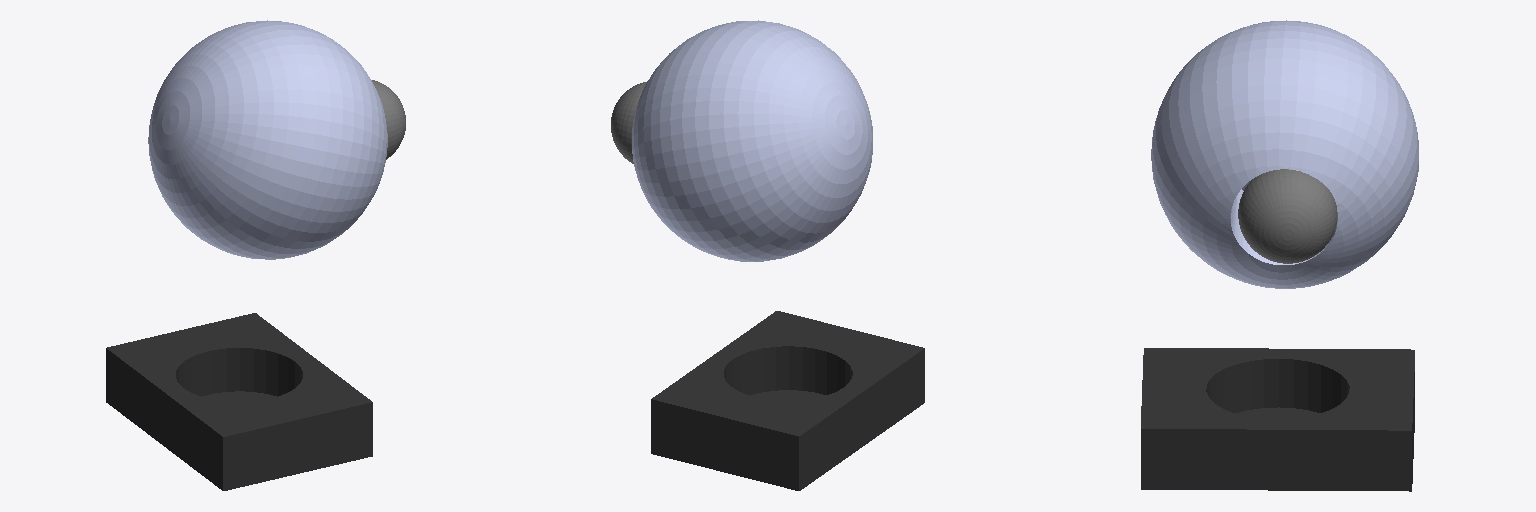
The robot description file, URDF, robot "ehn":
<?xml version="1.0" encoding="utf-8"?>

<!-- This URDF was automatically created by SolidWorks to URDF Exporter! Originally created by [author] ([email redacted]) 
     Commit Version: 1.6.0-1-g15f4949  Build Version: 1.6.7594.29634
     For more information, please see http://wiki.ros.org/sw_urdf_exporter -->
<robot
  name="ehn">
    <!--ros_control plugin-->
  <gazebo>
  <plugin name="gazebo_ros_control" filename="libgazebo_ros_control.so">
    <robotNamespace>ehn</robotNamespace>
  </plugin>
</gazebo>
<gazebo>
    <plugin name="gazebo_ros_force" filename="libgazebo_ros_force.so">
      <alwaysOn>true</alwaysOn>
      <update>100</update>
      <updateRate>1000.0</updateRate>
      <bodyName>dummy_link1</bodyName>
      <topicName>force/head_force</topicName>
    </plugin>
  </gazebo>
 <gazebo reference="head_joint">
    <provideFeedback>true</provideFeedback>
  </gazebo>
  <gazebo>
    <plugin name="ft_sensor_plugin" filename="libgazebo_ros_ft_sensor.so">
      <updateRate>1</updateRate>
      <topicName>ft_sensor/head_joint</topicName>
      <gaussianNoise>0.0</gaussianNoise>
      <jointName>head_joint</jointName>
      <frame>head_link</frame>
    </plugin>
  </gazebo>
 <gazebo reference="neck_joint1">
    <provideFeedback>true</provideFeedback>
  </gazebo>
  <gazebo>
    <plugin name="ft_sensor_plugin" filename="libgazebo_ros_ft_sensor.so">
      <updateRate>1</updateRate>
      <topicName>ft_sensor/neck_joint1</topicName>
      <gaussianNoise>0.0</gaussianNoise>
      <jointName>neck_joint1</jointName>
      <frame>neck_link</frame>
    </plugin>
  </gazebo>
   <gazebo reference="neck_joint2">
    <provideFeedback>true</provideFeedback>
  </gazebo>
  <gazebo>
    <plugin name="ft_sensor_plugin" filename="libgazebo_ros_ft_sensor.so">
      <updateRate>1</updateRate>
      <topicName>ft_sensor/neck_joint2</topicName>
      <gaussianNoise>0.0</gaussianNoise>
      <jointName>neck_joint2</jointName>
      <frame>neck_link</frame>
    </plugin>
  </gazebo>
   <gazebo reference="neck_joint3">
    <provideFeedback>true</provideFeedback>
  </gazebo>
  <gazebo>
    <plugin name="ft_sensor_plugin" filename="libgazebo_ros_ft_sensor.so">
      <updateRate>1</updateRate>
      <topicName>ft_sensor/neck_joint3</topicName>
      <gaussianNoise>0.0</gaussianNoise>
      <jointName>neck_joint3</jointName>
      <frame>neck_link</frame>
    </plugin>
  </gazebo>
  <plugin name="JointStatePublisher" filename="libJointStatePublisher.so">
    <joints>head_joint, neck_joint1, neck_joint2, neck_joint3</joints>
    <publish_selected_only>1</publish_selected_only>
</plugin>
<!-- * * * BASE LINK * * * -->
 <link name="world"/> 

  <link name="base_link">
    <inertial>
      <origin
        xyz="0 0 0"  rpy="0 0 0" />
      <mass value="5" />
      <inertia
        ixx="0.67109" ixy="0.5715" ixz="-0.036069" iyy="0.21011" iyz="-0.16464" izz="0.70362" />
    </inertial>
   <visual>
      <origin
        xyz="0 0 0" rpy="0 0 0" />
      <geometry>
        <mesh
          filename="package://ehn_description/meshes/torso_scaled_right_tf.STL" /> <!--scale="0.001 0.001 0.001"-->
      </geometry>
       <material
        name="">
        <color rgba="0.25098 0.25098 0.25098 1" />
      </material>
     
    </visual>
    <collision>
      <origin
        xyz="0 0 0"  rpy="0 0 0" />
      <geometry>
       <mesh
          filename="package://ehn_description/meshes/torso_scaled_right_tf.STL" /> <!--scale="0.001 0.001 0.001"-->
      </geometry>
    </collision>
  </link>
  <gazebo reference="base_link">
        <kp>1000000.0</kp>
        <kd>1000000.0</kd>
        <mu1>1000000.0</mu1>
        <mu2>1000000.0</mu2>
        <material>Gazebo/Green</material>
    </gazebo>
    <joint
    name="dummy_joint" type="fixed">
    <origin
      xyz="0 0 0" rpy="0 0 0" />
    <parent link="world" />
    <child link="base_link" />
  </joint> 
    
    <!-- * * * NECK LINK * * * -->
  <link
    name="neck_link">
    <inertial>
      <origin
        xyz="0.000203483745243849 0.129685703832282 0.00262447328347798" rpy="0 0 0" />
      <mass
        value="0.1" />
      <inertia
        ixx="0.0120649057014717"
        ixy="1.81679347155662E-05"
        ixz="-1.50058183101914E-06"
        iyy="0.00164994565864921"
        iyz="-0.000288088632794543"
        izz="0.0121043532907629" />
    </inertial>
     <visual>
      <origin
        xyz="0 0 0" rpy="0 -1.57 1.57" />
         
      <geometry>
       <mesh
          filename="package://ehn_description/meshes/neck_scaled_right_tf.STL" />
      </geometry>
     <material
        name="">
        <color
          rgba="0.79216 0.81961 0.93333 1" />
      </material> 
      
    </visual>
   <collision>
      <origin
        xyz="0 0 0"  rpy="0 -1.57 1.57" />
      <geometry>
       <mesh
          filename="package://ehn_description/meshes/neck_scaled_right_tf.STL"/>
      </geometry>
    </collision>
    
  </link>
  <gazebo reference="neck_link">
        <kp>1000000.0</kp>
        <kd>1.0</kd>
        <mu1>20.0</mu1>
        <mu2>10.0</mu2>
        <material>Gazebo/Green</material>
    </gazebo>
    <!-- * * * Neck Joint* * * -->
    <!--<joint
    name="neck_joint" type="fixed">
    <origin
      xyz="0 0 0" rpy="0 0 0" />
    <parent link="base_link" />
    <child link="neck_link1" />
  </joint>  -->
  
  <link name="neck_link1" >
    <inertial>
      <mass value="0.01" />
      <inertia ixx="1" ixy="0" ixz="0" iyy="1" iyz="0" izz="1" />
    </inertial>
  </link>
  <joint
    name="neck_joint1" type="revolute">
    <origin
      xyz="0 0 0" rpy="0 0 0" />
    <parent link="base_link" />
    <child link="neck_link1" />
    <limit lower="-3" upper="3" effort="1000.0" velocity="100.0"/> <!-- -0.57/+0.57 -->
    <axis
      xyz="0 0 1" />
  </joint>
  <link name="neck_link2" >
    <inertial>
      <mass value="0.01" />
      <inertia ixx="1" ixy="0" ixz="0" iyy="1" iyz="0" izz="1" />
    </inertial>
  </link>
  <joint
    name="neck_joint2" type="revolute">
    <origin
      xyz="0 0 0" rpy="-1.57 0 0" />
    <parent link="neck_link1" />
    <child link="neck_link2" />
    <limit lower="-3" upper="3" effort="1000.0" velocity="100.0"/> <!-- -0.8/+0.8 -->
    <axis
      xyz="0 0 1" />
  </joint>
<link name="neck_link3" >
    <inertial>
      <mass value="0.01" />
      <inertia ixx="1" ixy="0" ixz="0" iyy="1" iyz="0" izz="1" />
    </inertial>
  </link>
  
  <joint
    name="neck_joint3" type="revolute">
    <origin
      xyz="0 0 0" rpy="0 1.57 0" />
    <parent link="neck_link2" />
    <child link="neck_link3" />
    <limit lower="-3" upper="3" effort="1000.0" velocity="100.0"/> <!-- -0.4/+0.4 -->
    <axis
      xyz="0 0 1" />
  </joint>
  <joint
    name="neck_joint" type="fixed">
    <origin
      xyz="0 0 0" rpy="0 0 0" />
    <parent link="neck_link3" />
    <child link="neck_link" />
  </joint>
  
        <!--Connection between joint and actuator-->
  <transmission name="tran1">
        <type>transmission_interface/SimpleTransmission</type>
        <joint name="neck_joint1">
            <hardwareInterface>hardware_interface/EffortJointInterface</hardwareInterface>
        </joint>
        <actuator name="motor1">
            <hardwareInterface>EffortJointInterface</hardwareInterface>
            <mechanicalReduction>1</mechanicalReduction> <!--OPTIONAL-->
        </actuator>
    </transmission>
    <transmission name="tran2">
        <type>transmission_interface/SimpleTransmission</type>
        <joint name="neck_joint2">
            <hardwareInterface>hardware_interface/EffortJointInterface</hardwareInterface>
        </joint>
        <actuator name="motor2">
            <hardwareInterface>EffortJointInterface</hardwareInterface>
            <mechanicalReduction>1</mechanicalReduction>
        </actuator>
    </transmission>
    <transmission name="tran3">
        <type>transmission_interface/SimpleTransmission</type>
        <joint name="neck_joint3">
            <hardwareInterface>hardware_interface/EffortJointInterface</hardwareInterface>
        </joint>
        <actuator name="motor3">
            <hardwareInterface>EffortJointInterface</hardwareInterface>
            <mechanicalReduction>1</mechanicalReduction>
        </actuator>
    </transmission>
    <!-- * * * Link Head* * * -->
  <link
    name="head_link">
    <inertial>
      <origin
        xyz="-0.0116041712056188 0.272728950455507 0.00591895153717838" rpy="0 0 0" />
      <mass
        value="2" />
      <inertia
        ixx="0.0205178602272685"
        ixy="-0.000160876227725919"
        ixz="8.2602748865904E-06"
        iyy="0.0190414278028778"
        iyz="5.45328192891528E-07"
        izz="0.0189138325061749" />
    </inertial>
   <visual>
      <origin
        xyz="0 0.2 0 " rpy="1.57 0 0" /><!--0.01 -0.19 0-->
      <geometry>
        <mesh
          filename="package://ehn_description/meshes/head_scaled_right_tf1.STL" />
      </geometry>
      <material
        name="">
        <color
          rgba="0.79216 0.81961 0.93333 1" />
      </material> 
    </visual>
    <collision>
      <origin
        xyz="0 0.2 0" rpy="1.57 0 0" />
      <geometry>
       <mesh
          filename="package://ehn_description/meshes/head_scaled_right_tf1.STL" />
      </geometry>
    </collision> 
    
  </link>
  <gazebo reference="head_link">
        <kp>1000000.0</kp>
        <kd>1.0</kd>
        <mu1>20.0</mu1>
        <mu2>10.0</mu2>
        <material>Gazebo/Green</material>
    </gazebo>
    <!-- * * * Head Joint* * * -->
  <joint
    name="head_joint" type="revolute">
    <origin
      xyz="0 -0.2 0" rpy="0 -1.57 0" /><!--0.028348 0.21166 0.015774-->
    <parent
      link="neck_link" />
    <child
      link="head_link" />
    <limit lower="-1" upper="1" effort="1000.0" velocity="100.0"/>
    <axis
      xyz="0 0 1" />
  </joint>
  <transmission name="tran4">
        <type>transmission_interface/SimpleTransmission</type>
        <joint name="head_joint">
            <hardwareInterface>hardware_interface/EffortJointInterface</hardwareInterface>
        </joint>
        <actuator name="motor4">
            <hardwareInterface>EffortJointInterface</hardwareInterface>
            <mechanicalReduction>1</mechanicalReduction>
        </actuator>
    </transmission>
    <!-- * * * Link Eye* * * -->
  <link
    name="eye_link">
    <inertial>
      <origin
        xyz="-1.02050279798833E-18 0 0" rpy="0 0 0" />
      <mass
        value="0.3" />
      <inertia
        ixx="0.000290508591446567"
        ixy="0"
        ixz="0"
        iyy="0.000290508591446567"
        iyz="0"
        izz="0.000290508591446567" />
    </inertial>
    <visual>
      <origin
        xyz="-0.1 0 -0.24" rpy="0 0 0" />
      <geometry>
        <mesh
          filename="package://ehn_description/meshes/eye_scaled_right_tf.STL"/>
      </geometry>
      <material
        name="">
        <color
          rgba="0.50196 0.50196 0.50196 1" />
      </material>
    </visual>
    <collision>
      <origin
        xyz="-0.1 0 -0.24" rpy="0 0 0" />
      <geometry>
      
        <mesh
          filename="package://ehn_description/meshes/eye_scaled_right_tf.STL"/>
      </geometry>
    </collision>
  </link>
   <gazebo reference="eye_link">
        <kp>1000000.0</kp>
        <kd>1000000.0</kd>
        <mu1>10.0</mu1>
        <mu2>10.0</mu2>
        <material>Gazebo/Blue</material>
    </gazebo>
    <!-- * * * Eye joint* * * -->
    <!--<joint
    name="eye_joint" type="fixed">
    <origin
      xyz="0.0032992 0.058741 -0.011773" rpy="0 0 0" />
    <parent link="head_link" />
    <child link="eye_link1" />
  </joint> -->
  
  <link name="eye_link1" >
    <inertial>
      <mass value="0.001" />
      <inertia ixx="5.8083e-4" ixy="0" ixz="0" iyy="3.0833e-5" iyz="0" izz="5.9083e-4" />
    </inertial>
  </link>
  <joint
    name="eye_joint1" type="revolute">
    <origin
      xyz="0.1 -0.06 0" rpy="1.57 0 0" /><!--0.0032992 0.058741 -0.011773-->
    <parent link="head_link" />
    <child link="eye_link1" />
    <limit lower="-1.57" upper="1.57" effort="1000.0" velocity="100.0"/>
    <axis
      xyz="0 0 1" />
  </joint>
  <link name="eye_link2" >
    <inertial>
      <mass value="0.001" />
      <inertia ixx="5.8083e-4" ixy="0" ixz="0" iyy="3.0833e-5" iyz="0" izz="5.9083e-4" />
    </inertial>
  </link>
  <joint
    name="eye_joint2" type="revolute">
    <origin
      xyz="0 0 0" rpy="-1.57 0 0" />
    <parent link="eye_link1" />
    <child link="eye_link2" />
    <limit lower="-0.2" upper="0.2" effort="1000.0" velocity="100.0"/>
    <axis
      xyz="0 0 1" />
  </joint>
<link name="eye_link3" >
    <inertial>
      <mass value="0.001" />
      <inertia ixx="5.8083e-4" ixy="0" ixz="0" iyy="3.0833e-5" iyz="0" izz="5.9083e-4" />
    </inertial>
  </link>
  
  <joint
    name="eye_joint3" type="revolute">
    <origin
      xyz="0 0 0" rpy="0 1.57 0" />
    <parent link="eye_link2" />
    <child link="eye_link3" />
    <limit lower="-0.2" upper="0.2" effort="1000.0" velocity="100.0"/>
    <axis
      xyz="0 0 1" />
  </joint>
  <joint
    name="eye_joint" type="fixed">
    <origin
      xyz="0 0 0" rpy="0 0 0" />
    <parent link="eye_link3" />
    <child link="eye_link" />
  </joint>
  
  <transmission name="tran5">
        <type>transmission_interface/SimpleTransmission</type>
        <joint name="eye_joint1">
            <hardwareInterface>hardware_interface/EffortJointInterface</hardwareInterface>
        </joint>
        <actuator name="motor5">
            <hardwareInterface>EffortJointInterface</hardwareInterface>
            <mechanicalReduction>1</mechanicalReduction>
        </actuator>
    </transmission>
    <transmission name="tran6">
        <type>transmission_interface/SimpleTransmission</type>
        <joint name="eye_joint2">
            <hardwareInterface>hardware_interface/EffortJointInterface</hardwareInterface>
        </joint>
        <actuator name="motor6">
            <hardwareInterface>EffortJointInterface</hardwareInterface>
            <mechanicalReduction>1</mechanicalReduction>
        </actuator>
    </transmission>
    <transmission name="tran7">
        <type>transmission_interface/SimpleTransmission</type>
        <joint name="eye_joint3">
            <hardwareInterface>hardware_interface/EffortJointInterface</hardwareInterface>
        </joint>
        <actuator name="motor7">
            <hardwareInterface>EffortJointInterface</hardwareInterface>
            <mechanicalReduction>1</mechanicalReduction>
        </actuator>
    </transmission>

    <disable_collisions link1="base_link" link2="eye_link" reason="Never" />
    <disable_collisions link1="base_link" link2="neck_link" reason="Adjacent" />
    <disable_collisions link1="eye_link" link2="head_link" reason="Adjacent" />
    <disable_collisions link1="eye_link" link2="neck_link" reason="Never" />
    <disable_collisions link1="head_link" link2="neck_link" reason="Adjacent" /> 

    <link name="dummy_link1" >
    <inertial>
      <mass value="0.0001" />
      <inertia ixx="5.8083e-4" ixy="0" ixz="0" iyy="3.0833e-5" iyz="0" izz="5.9083e-4" />
    </inertial>
  </link>
  <joint
    name="dummy_joint1" type="revolute">
    <origin
      xyz="0 -0.153 0" rpy="1.57 0 0" /><!--0.0032992 0.058741 -0.011773-->
    <parent link="head_link" />
    <child link="dummy_link1" />
    <limit lower="-0.0" upper="0.0" effort="0.0" velocity="0.0"/>
    <axis
      xyz="0 0 0" />
  </joint>
</robot>

--- What the picture shows (computed from the rendered views, not written in the file) ---
Views: 3 orthographic renders of the robot side by side, from view 1: azimuth 30°, elevation 25°; view 2: azimuth 150°, elevation 25°; view 3: azimuth 270°, elevation 25°.
Model ehn with 12 links and 11 joints (8 revolute, 3 fixed), rooted at world, posed every joint at zero.
Links seen in each view (by area): view 1: head_link, base_link, eye_link; view 2: head_link, base_link, eye_link; view 3: head_link, base_link, eye_link.
Link boxes in pixels (bbox=[...]): head_link: bbox=[148, 20, 387, 259]; base_link: bbox=[106, 313, 372, 490]; eye_link: bbox=[372, 80, 405, 159]; head_link: bbox=[632, 20, 872, 261]; base_link: bbox=[651, 311, 924, 490]; eye_link: bbox=[611, 81, 647, 163]; head_link: bbox=[1151, 20, 1418, 288]; base_link: bbox=[1141, 348, 1414, 491]; eye_link: bbox=[1238, 169, 1336, 263].
Size in the robot's own frame: 0.2326 by 0.2076 by 0.3569 metres.
3 mesh visuals loaded from 4 distinct referenced files (3 binary STL); not drawn: 1 (reference not matched to a file when rendering).
